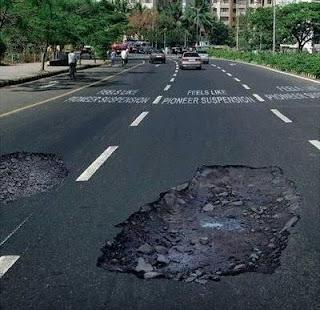Pothole: (112, 121, 300, 303), (0, 125, 95, 230)
